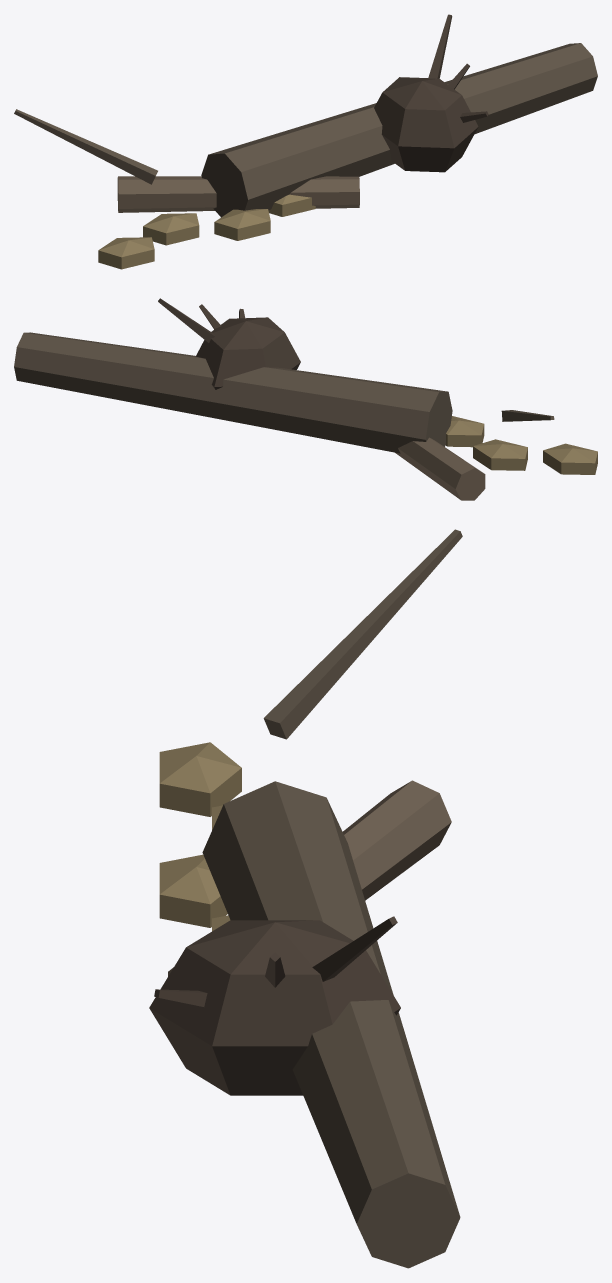
File: br_x_driftwood.glb
The picture shows the model from 3 angles, top to bottom: view 1: azimuth 30°, elevation 25°; view 2: azimuth 150°, elevation 25°; view 3: azimuth 270°, elevation 25°; orthographic projection. The views are drawn at different scales.
Visible parts, largest first — view 1: br_x_driftwood; view 2: br_x_driftwood; view 3: br_x_driftwood.
Boxes of the visible parts, left/top/right/bottom form: br_x_driftwood: left=14, top=14, right=597, bottom=269; br_x_driftwood: left=14, top=298, right=597, bottom=500; br_x_driftwood: left=149, top=529, right=462, bottom=1268.
Bounding box in the file's own units: 4.8 × 1.01 × 1.19.
